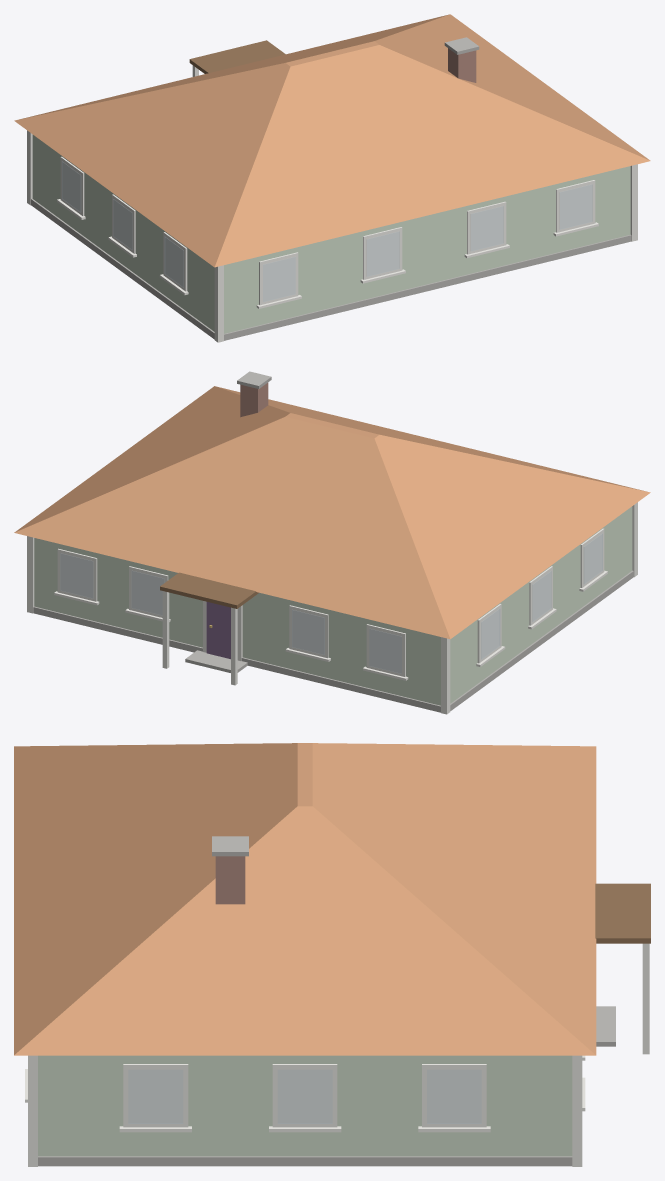
The model's file is house_medium_c.glb.
3 views of the same model, one above another, from view 1: azimuth 30°, elevation 25°; view 2: azimuth 150°, elevation 25°; view 3: azimuth 270°, elevation 25° (orthographic). The views are drawn at different scales.
Parts seen in each view (by area): view 1: roof, body; view 2: roof, body; view 3: roof, body.
Part boxes in pixels (box(x1,y1,x2,y2)): roof: box(14, 14, 650, 267); body: box(27, 40, 637, 342); roof: box(14, 371, 650, 639); body: box(27, 502, 637, 714); roof: box(14, 743, 596, 1055); body: box(25, 883, 650, 1166).
Size of the model in its own units: 14.7 by 5.49 by 12.8.
